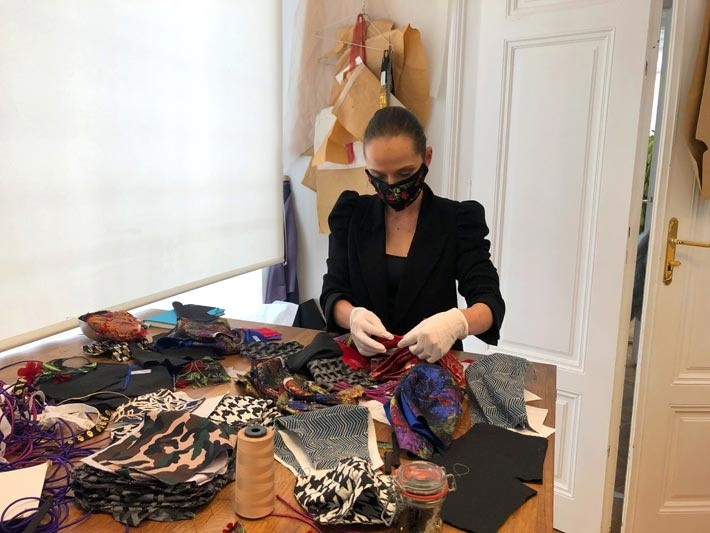face_with_mask: (362, 107, 434, 212)
